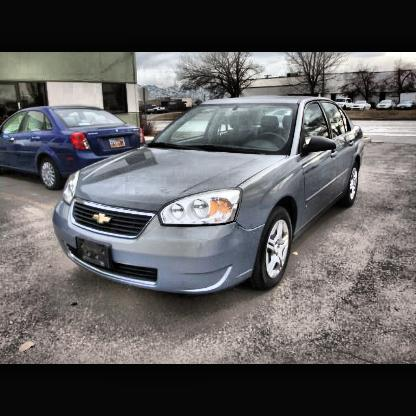Chevrolet Malibu Sedan 2007: (55, 97, 365, 295)
